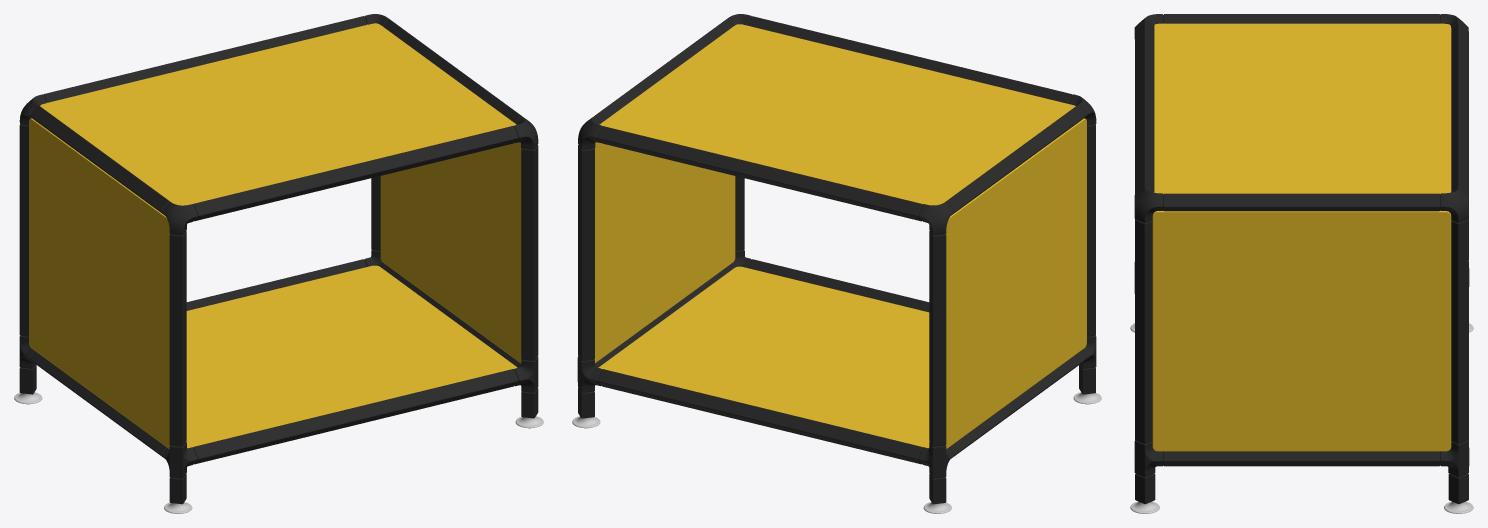
The picture shows the model from 3 angles, left to right: view 1: azimuth 30°, elevation 25°; view 2: azimuth 150°, elevation 25°; view 3: azimuth 270°, elevation 25°; orthographic projection. The views are drawn at different scales.
Parts seen in each view (by area): view 1: 523x374x329; view 2: 523x374x329; view 3: 523x374x329.
Boxes of the visible parts, x1=… form: 523x374x329: x1=14, y1=14, x2=543, y2=513; 523x374x329: x1=572, y1=14, x2=1101, y2=513; 523x374x329: x1=1130, y1=14, x2=1473, y2=513.
Size of the model in its own units: 0.6129 by 0.4683 by 0.4632.
